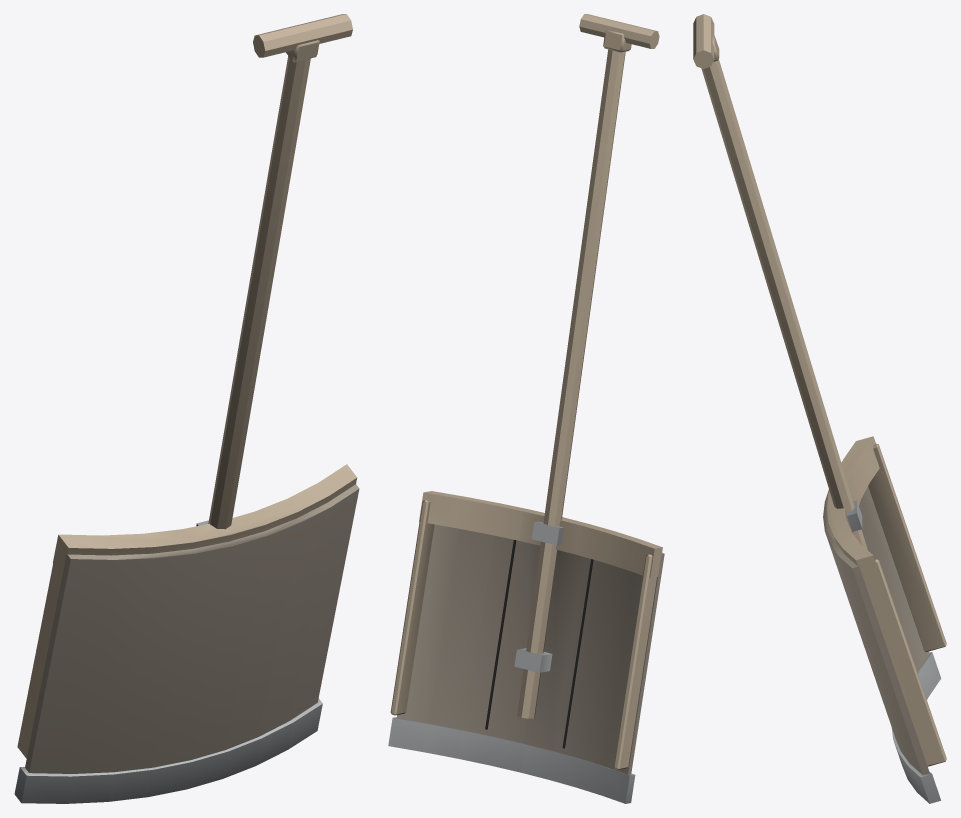
Rendered from snow_shovel.glb.
3 views of the same model, side by side, from view 1: azimuth 30°, elevation 25°; view 2: azimuth 150°, elevation 25°; view 3: azimuth 270°, elevation 25° (orthographic). The views are drawn at different scales.
Visible parts, largest first — view 1: static; view 2: static; view 3: static.
Boxes of the visible parts, left/top/right/bottom form: static: left=14, top=14, right=359, bottom=803; static: left=388, top=14, right=664, bottom=803; static: left=693, top=14, right=946, bottom=803.
Size of the model in its own units: 0.472 by 1.29 by 0.4133.
